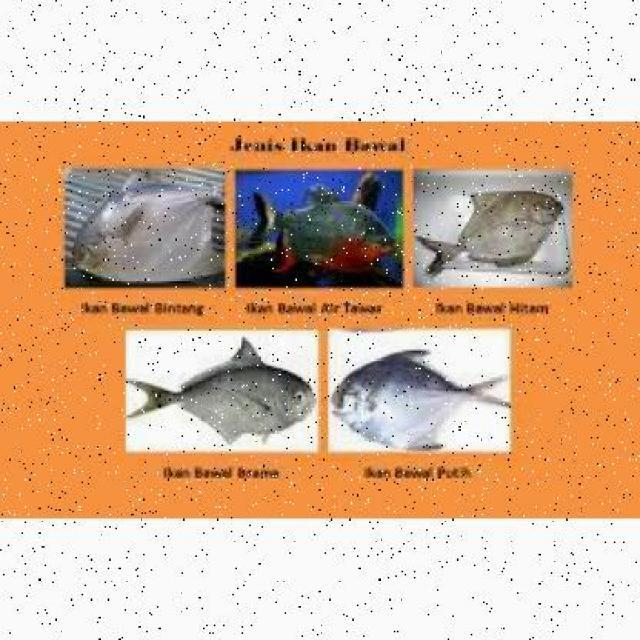ikan-pacu: (130, 346, 316, 442), (331, 344, 497, 450), (70, 173, 218, 282), (424, 184, 564, 270), (249, 194, 400, 268)
